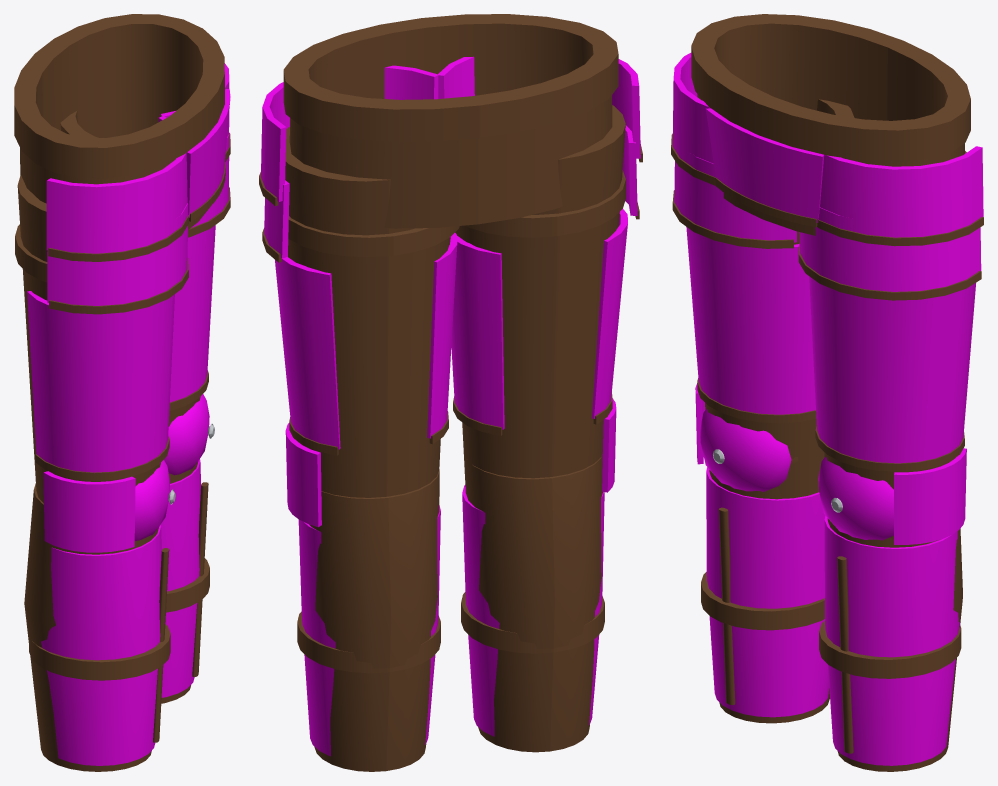
Rendered from objet_armure1_jambieres.glb.
3 renders of one model, left to right at view 1: azimuth 30°, elevation 25°; view 2: azimuth 150°, elevation 25°; view 3: azimuth 270°, elevation 25°, orthographic. The views are drawn at different scales.
Visible parts, largest first — view 1: cuisse_d__jambieres_teinte.010, bassin__jambieres_sac_cuir.004, jambe_d__jambieres_teinte.010, jambe_d__jambieres_sac_cuir.002, jambe_g__jambieres_teinte.010, cuisse_d__jambieres_sac_cuir.002, cuisse_g__jambieres_teinte.010, bassin__jambieres_teinte.010, jambe_g__jambieres_sac_cuir.002, cuisse_g__jambieres_sac_cuir.002; view 2: bassin__jambieres_sac_cuir.004, cuisse_g__jambieres_sac_cuir.002, cuisse_d__jambieres_sac_cuir.002, jambe_d__jambieres_sac_cuir.002, jambe_g__jambieres_sac_cuir.002, cuisse_g__jambieres_teinte.010, cuisse_d__jambieres_teinte.010, jambe_g__jambieres_teinte.010, jambe_d__jambieres_teinte.010; view 3: cuisse_g__jambieres_teinte.010, bassin__jambieres_sac_cuir.004, jambe_g__jambieres_teinte.010, jambe_d__jambieres_teinte.010, cuisse_d__jambieres_teinte.010, bassin__jambieres_teinte.010, jambe_g__jambieres_sac_cuir.002, cuisse_d__jambieres_sac_cuir.002, jambe_d__jambieres_sac_cuir.002, cuisse_g__jambieres_sac_cuir.002.
Part boxes in pixels (<box>): cuisse_d__jambieres_teinte.010: <box>27,116,188,472</box>; bassin__jambieres_sac_cuir.004: <box>14,14,225,229</box>; jambe_d__jambieres_teinte.010: <box>41,460,170,765</box>; jambe_d__jambieres_sac_cuir.002: <box>24,483,170,771</box>; jambe_g__jambieres_teinte.010: <box>160,394,209,697</box>; cuisse_d__jambieres_sac_cuir.002: <box>15,175,188,554</box>; cuisse_g__jambieres_teinte.010: <box>161,63,229,402</box>; bassin__jambieres_teinte.010: <box>186,88,230,217</box>; jambe_g__jambieres_sac_cuir.002: <box>161,461,209,703</box>; cuisse_g__jambieres_sac_cuir.002: <box>60,111,230,426</box>; bassin__jambieres_sac_cuir.004: <box>283,14,618,228</box>; cuisse_g__jambieres_sac_cuir.002: <box>259,127,459,497</box>; cuisse_d__jambieres_sac_cuir.002: <box>453,105,642,491</box>; jambe_d__jambieres_sac_cuir.002: <box>461,453,604,752</box>; jambe_g__jambieres_sac_cuir.002: <box>297,469,440,771</box>; cuisse_g__jambieres_teinte.010: <box>261,65,457,449</box>; cuisse_d__jambieres_teinte.010: <box>437,56,640,429</box>; jambe_g__jambieres_teinte.010: <box>285,423,440,756</box>; jambe_d__jambieres_teinte.010: <box>462,398,616,736</box>; cuisse_g__jambieres_teinte.010: <box>799,146,983,463</box>; bassin__jambieres_sac_cuir.004: <box>691,14,970,235</box>; jambe_g__jambieres_teinte.010: <box>818,448,966,765</box>; jambe_d__jambieres_teinte.010: <box>695,383,829,717</box>; cuisse_d__jambieres_teinte.010: <box>672,53,815,414</box>; bassin__jambieres_teinte.010: <box>706,108,824,222</box>; jambe_g__jambieres_sac_cuir.002: <box>819,518,962,771</box>; cuisse_d__jambieres_sac_cuir.002: <box>671,99,854,498</box>; jambe_d__jambieres_sac_cuir.002: <box>701,452,829,723</box>; cuisse_g__jambieres_sac_cuir.002: <box>798,151,983,547</box>.
Size of the model in its own units: 0.133 by 0.3113 by 0.1351.
